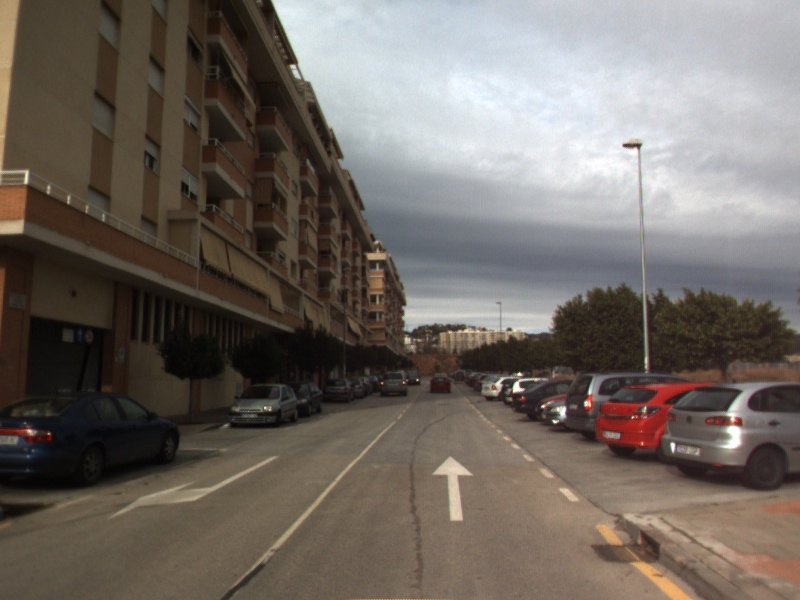STRAIGHT: (430, 454, 475, 523)
